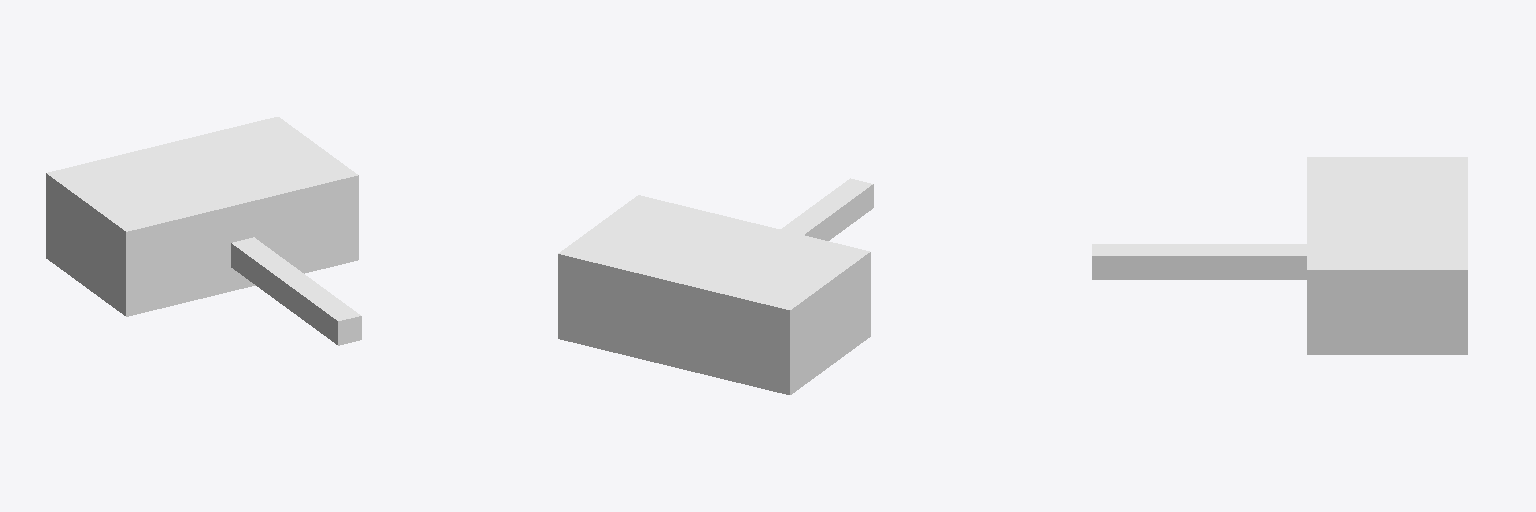
The model's file is morda.obj.
3 renders of one model, left to right at view 1: azimuth 30°, elevation 25°; view 2: azimuth 150°, elevation 25°; view 3: azimuth 270°, elevation 25°, orthographic.
Parts seen in each view (by area): view 1: object 1; view 2: object 1; view 3: object 1.
Part boxes in pixels (x1,y1,x2,y2): object 1: (46, 117, 361, 345); object 1: (558, 178, 873, 394); object 1: (1092, 157, 1467, 354).
Size of the model in its own units: 2 by 0.7 by 2.8.